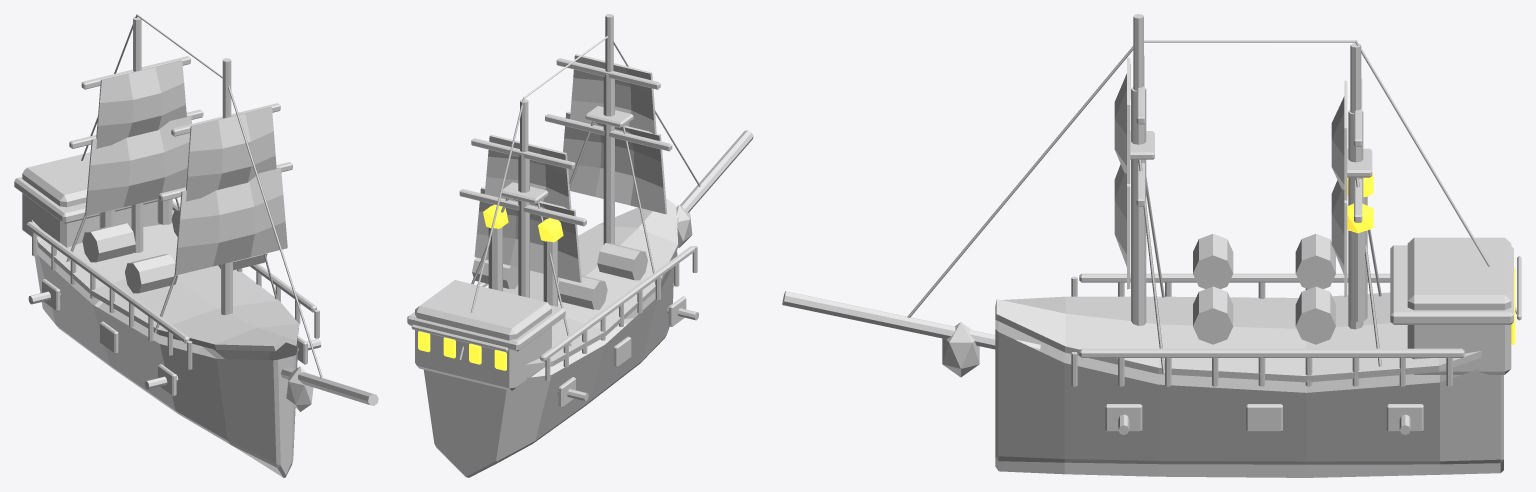
Rendered from enemy_plague_raider_v04.fbx.
3 views of the same model, side by side, from view 1: azimuth 30°, elevation 25°; view 2: azimuth 150°, elevation 25°; view 3: azimuth 270°, elevation 25° (orthographic). The views are drawn at different scales.
Visible parts, largest first — view 1: Enemy_Corsair_Hull, Enemy_Corsair_Deck, Sail_1_1, Sail_2_1, Sail_1_2, Sail_2_2, Stern_GreatCabin, PlagueRaider_Toxic_Cask_1_1, PlagueRaider_Toxic_Cask_1_2, Tier_2_Starboard_TopRail, Stern_Quarterdeck, Bowsprit_Main (+11 smaller); view 2: Enemy_Corsair_Hull, Stern_GreatCabin, Enemy_Corsair_Deck, Sail_1_1, Sail_2_1, Sail_1_2, Sail_2_2, Mast_1_Lower, Stern_Quarterdeck, Mast_2_Lower, PlagueRaider_Toxic_Cask_1_2, Tier_2_Starboard_TopRail (+20 smaller); view 3: Enemy_Corsair_Hull, Enemy_Corsair_Deck, Stern_GreatCabin, Tier_2_Port_TopRail, Stern_Quarterdeck, Bowsprit_Main, Mast_1_Lower, PlagueRaider_Toxic_Cask_-1_1, PlagueRaider_Toxic_Cask_-1_2, PlagueRaider_Toxic_Cask_1_2, PlagueRaider_Toxic_Cask_1_1, Tier_2_Starboard_TopRail (+14 smaller).
Boxes of the visible parts, bbox=[...] form: Enemy_Corsair_Hull: bbox=[31, 237, 298, 477]; Enemy_Corsair_Deck: bbox=[31, 220, 299, 351]; Sail_1_1: bbox=[174, 167, 287, 275]; Sail_2_1: bbox=[85, 115, 191, 216]; Sail_1_2: bbox=[186, 107, 276, 201]; Sail_2_2: bbox=[96, 60, 186, 148]; Stern_GreatCabin: bbox=[22, 152, 161, 247]; PlagueRaider_Toxic_Cask_1_1: bbox=[82, 223, 135, 262]; PlagueRaider_Toxic_Cask_1_2: bbox=[125, 254, 178, 293]; Tier_2_Starboard_TopRail: bbox=[26, 221, 189, 343]; Stern_Quarterdeck: bbox=[14, 177, 157, 223]; Bowsprit_Main: bbox=[281, 367, 378, 405]; Enemy_Corsair_Hull: bbox=[423, 251, 677, 477]; Stern_GreatCabin: bbox=[415, 280, 551, 390]; Enemy_Corsair_Deck: bbox=[503, 198, 678, 369]; Sail_1_1: bbox=[563, 111, 667, 214]; Sail_2_1: bbox=[474, 187, 581, 282]; Sail_1_2: bbox=[570, 54, 656, 134]; Sail_2_2: bbox=[484, 134, 571, 209]; Mast_1_Lower: bbox=[603, 74, 614, 244]; Stern_Quarterdeck: bbox=[407, 305, 565, 351]; Mast_2_Lower: bbox=[518, 154, 529, 297]; PlagueRaider_Toxic_Cask_1_2: bbox=[597, 243, 647, 280]; Tier_2_Starboard_TopRail: bbox=[540, 246, 694, 361]; Enemy_Corsair_Hull: bbox=[995, 320, 1503, 477]; Enemy_Corsair_Deck: bbox=[995, 292, 1481, 382]; Stern_GreatCabin: bbox=[1407, 237, 1511, 374]; Tier_2_Port_TopRail: bbox=[1079, 348, 1464, 357]; Stern_Quarterdeck: bbox=[1390, 245, 1513, 324]; Bowsprit_Main: bbox=[782, 291, 1040, 351]; Mast_1_Lower: bbox=[1131, 87, 1146, 325]; PlagueRaider_Toxic_Cask_-1_1: bbox=[1295, 286, 1335, 344]; PlagueRaider_Toxic_Cask_-1_2: bbox=[1193, 286, 1233, 344]; PlagueRaider_Toxic_Cask_1_2: bbox=[1193, 234, 1233, 289]; PlagueRaider_Toxic_Cask_1_1: bbox=[1295, 234, 1335, 289]; Tier_2_Starboard_TopRail: bbox=[1079, 273, 1390, 282].
Size of the model in its own units: 1.31 by 2.77 by 4.03.
